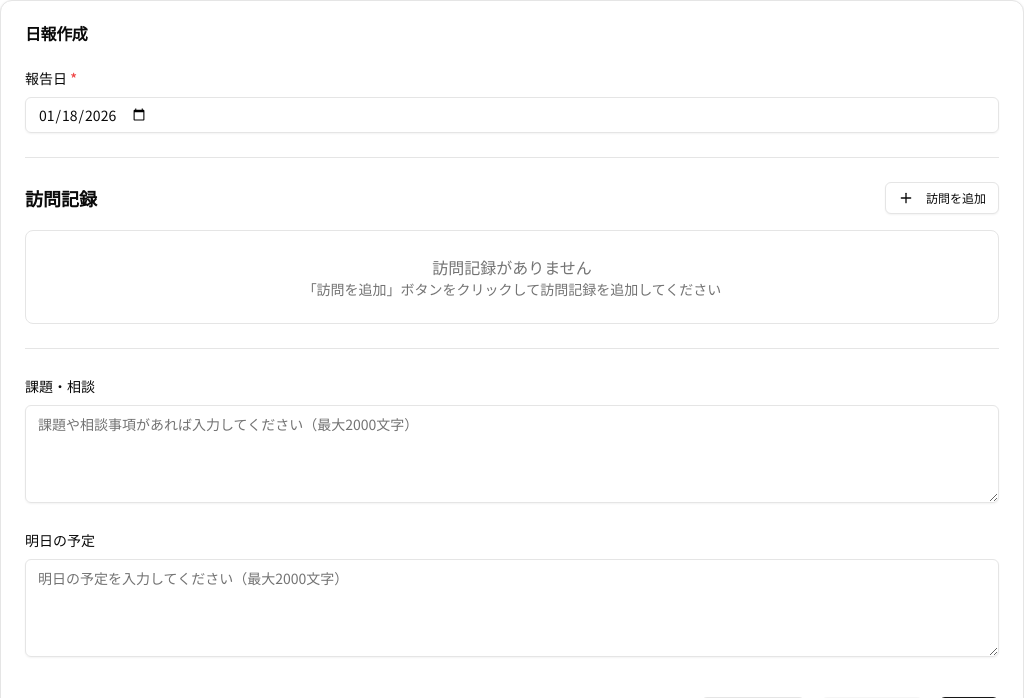
ReportForm › remove visit functionality › should remove visit record when clicking delete button
#  訪問記録を追加
Click the button "訪問を追加" at (942, 198), box x1=885 y1=182 x2=999 y2=214
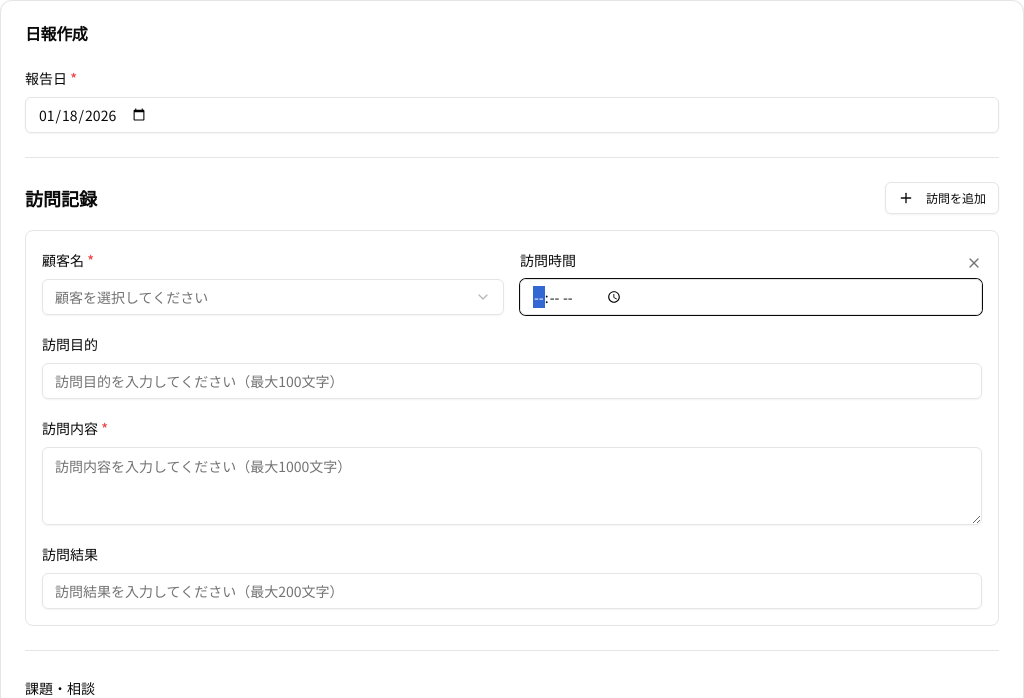
Now the element named "訪問記録 1" is shown, box x1=25 y1=230 x2=999 y2=626
# 削除ボタンをクリック
Click the button named "訪問記録 1 を削除" at (974, 263), box x1=958 y1=247 x2=990 y2=279
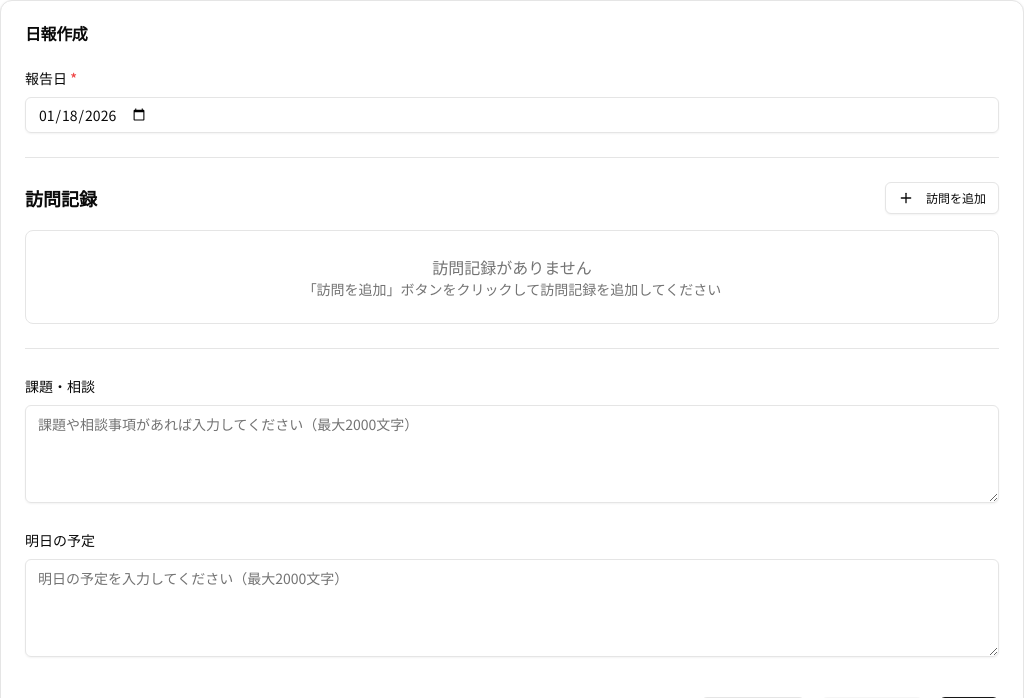
Now the text "訪問記録がありません" is shown, box x1=432 y1=255 x2=592 y2=279
